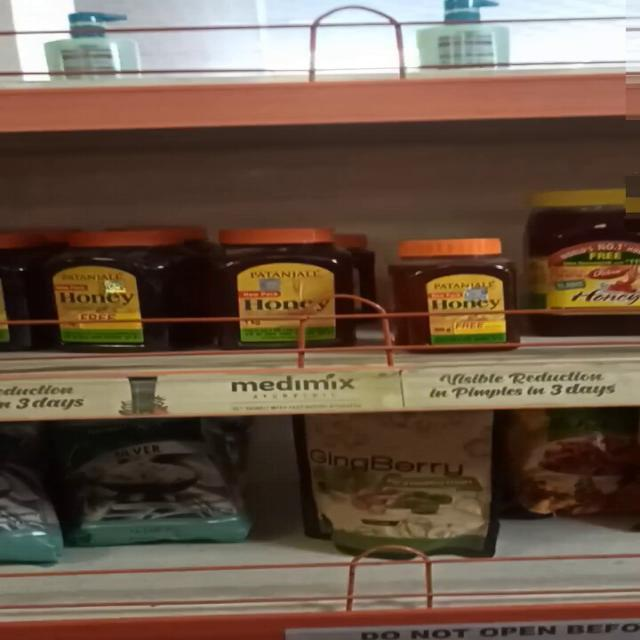Dabur Honey: (533, 187, 640, 336)
Patanjali Honey: (42, 224, 184, 354), (213, 222, 350, 346), (386, 235, 528, 350)
